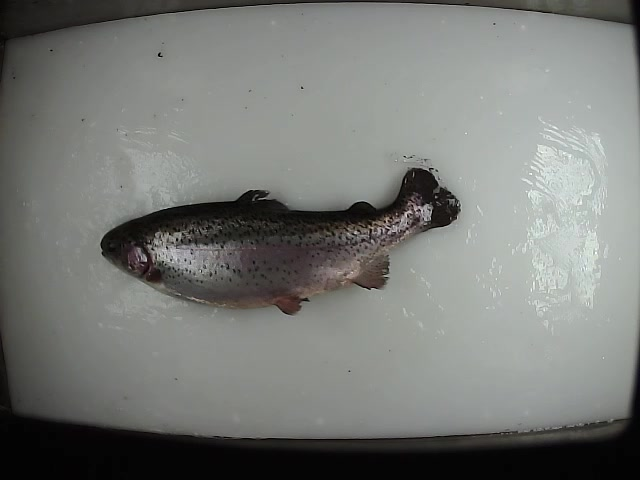Fish: (101, 167, 459, 315)
